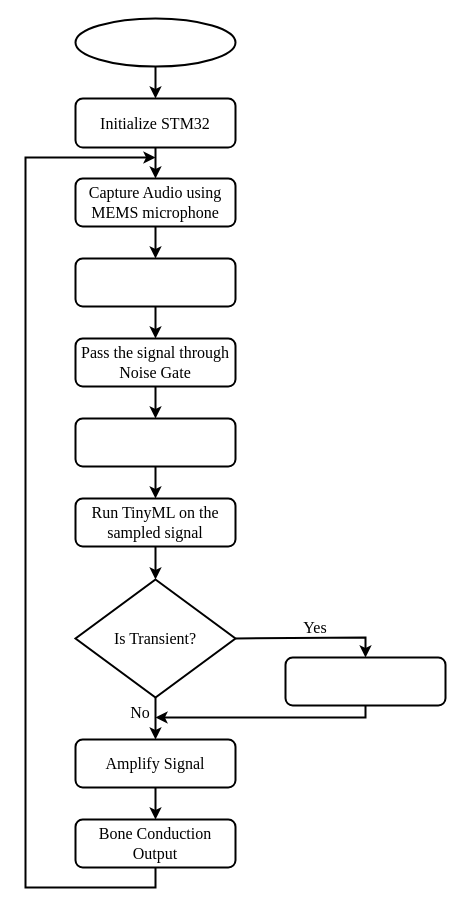
Image size: 463x913. Some labels were removed from this diagram. The centre of each missing label's shape, as x and y in pixels:
ADC Sampling of signal at 16 KHz: (155,442)
Analog Filtering using Band Pass Filter: (155,282)
Mute output for 50 ms: (365,681)
Start: (155,42)
